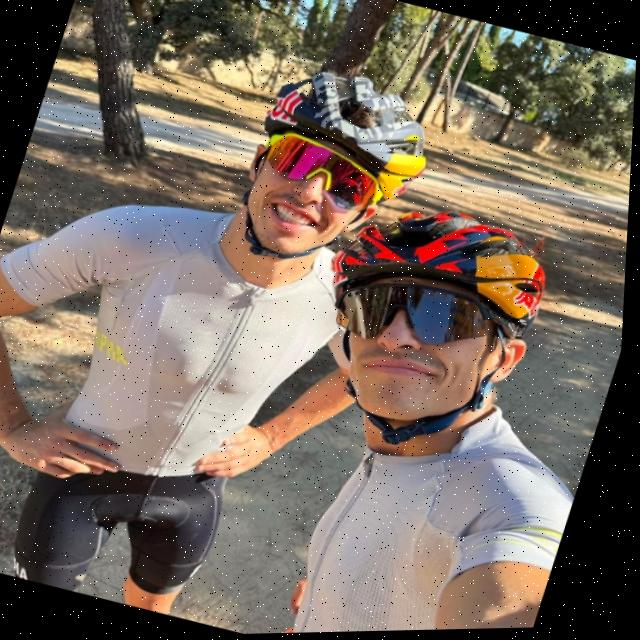illegal_helmet: (281, 180, 575, 480), (218, 47, 456, 299)
